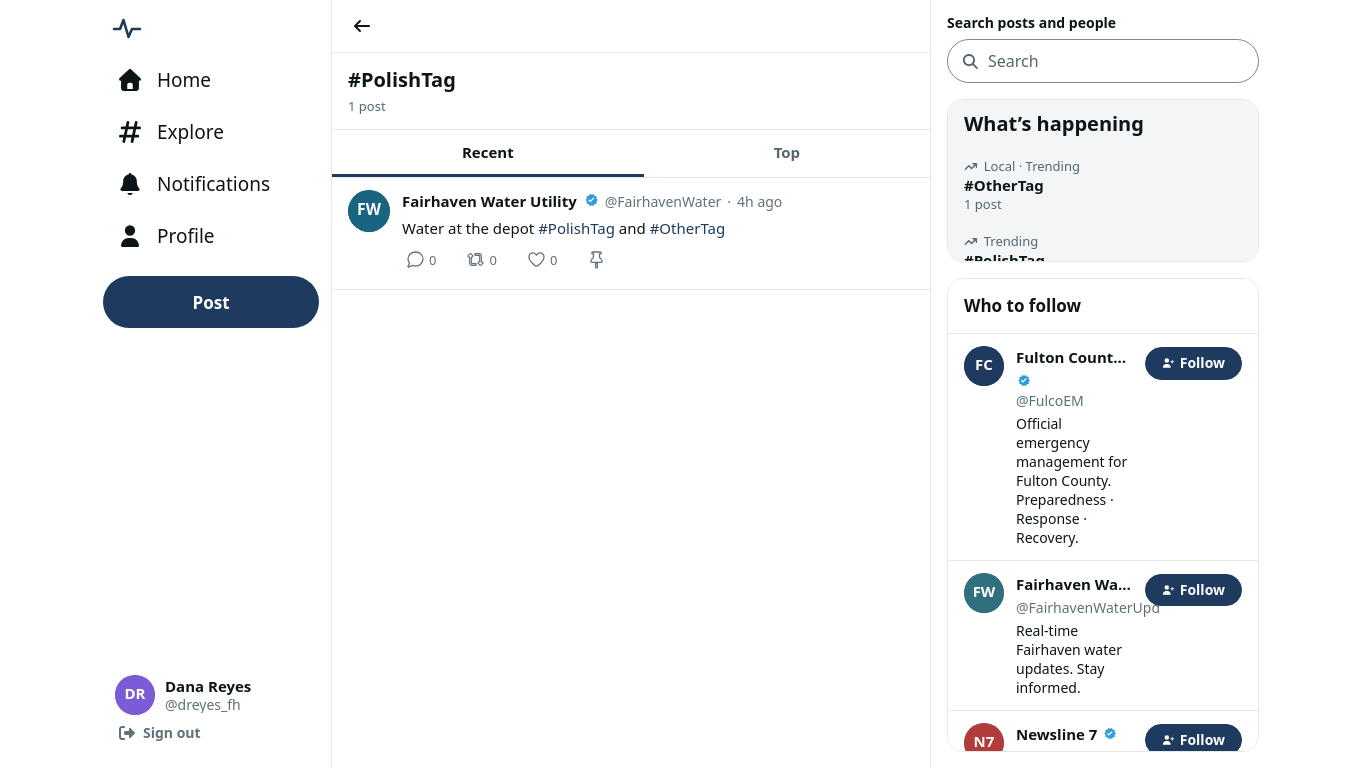
Test: HashtagRoute — a card's other hashtag navigates (M-4) › on /hashtag/polishtag, #OtherTag in a card opens /hashtag/othertag
The image size is (1366, 768).
Click the link "#OtherTag" at [687, 228], box [650,218,725,238]
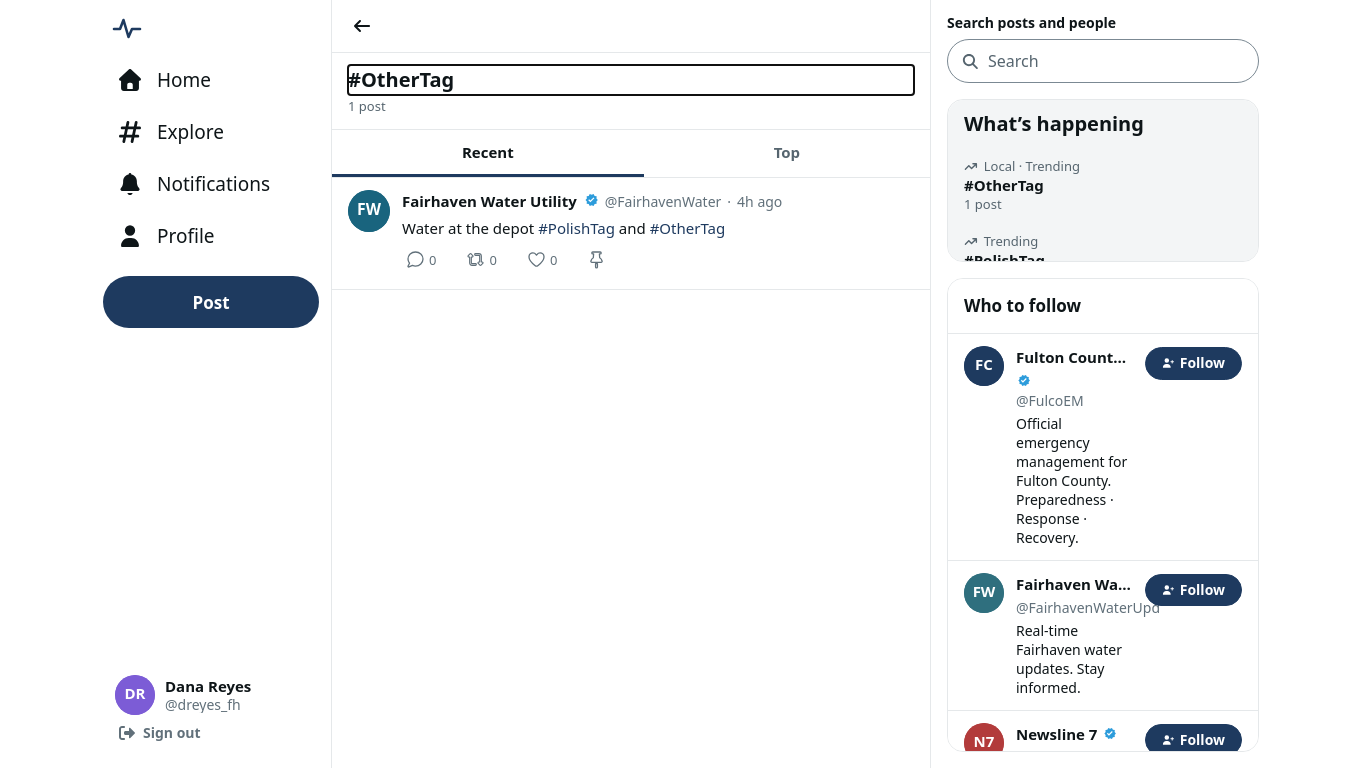
Expected: the heading "#OtherTag" is shown, [348,66,454,93]
